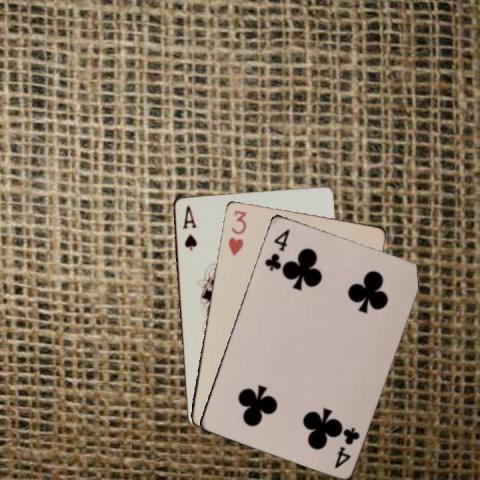3h: (225, 206, 248, 256)
4c: (262, 225, 292, 272), (331, 423, 361, 470)
As: (179, 202, 198, 252)
